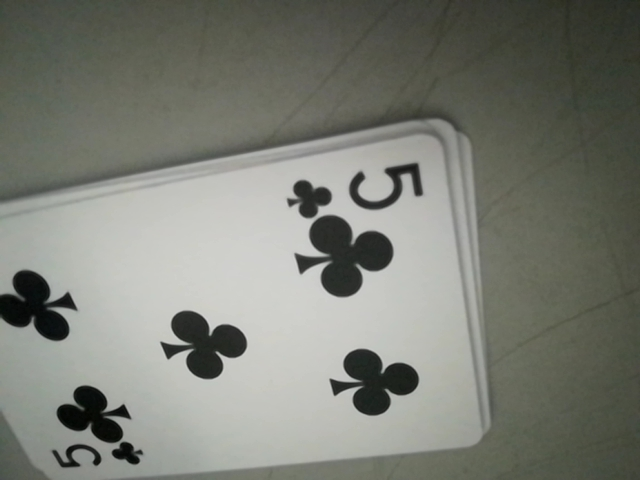mh 5: (281, 151, 430, 217), (47, 433, 146, 475)
